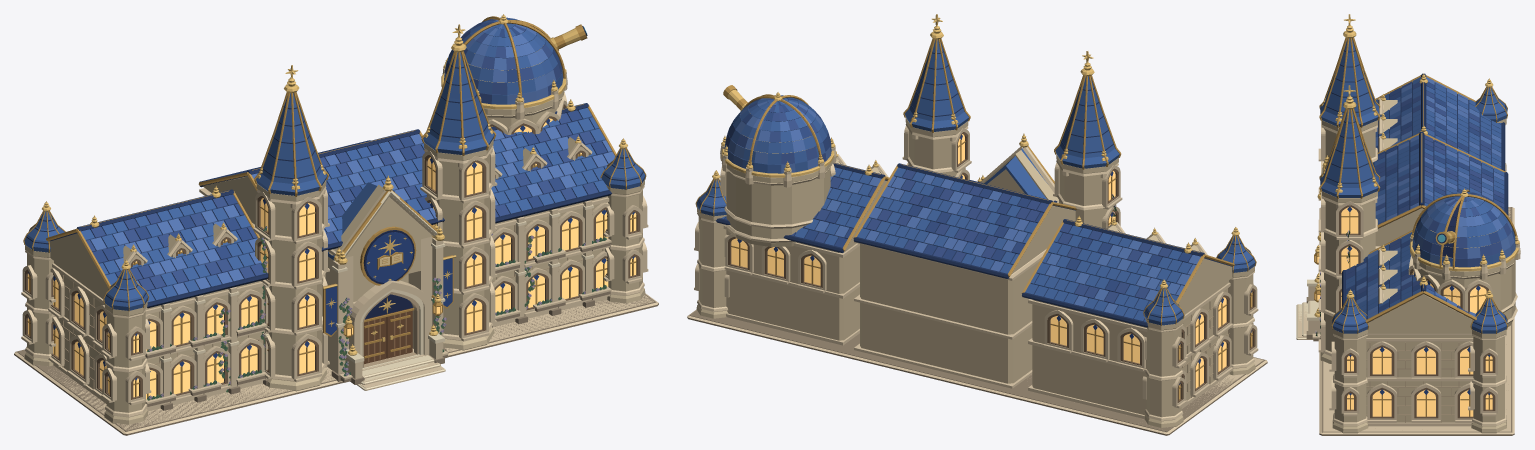
The model's file is academy-exterior.glb.
3 views of the same model, side by side, from view 1: azimuth 30°, elevation 25°; view 2: azimuth 150°, elevation 25°; view 3: azimuth 270°, elevation 25° (orthographic). The views are drawn at different scales.
Visible parts, largest first — view 1: West star spire, West classroom wing, West classroom wing | layered cobalt roof, East star spire, East classroom wing, East classroom wing | layered cobalt roof, Main hall and transverse portal roofs, Stone course base with projecting entry, Central hall and projecting Gothic pediment, Observatory layered cobalt dome and gold ribs, West front turret, East front turret (+6 smaller); view 2: Central hall and projecting Gothic pediment, Main hall and transverse portal roofs, West classroom wing, West classroom wing | layered cobalt roof, East classroom wing, West star spire, Observatory drum and Gothic lantern gallery, Observatory layered cobalt dome and gold ribs, Stone course base with projecting entry, East star spire, West rear turret, East classroom wing | layered cobalt roof (+2 smaller); view 3: East classroom wing, East star spire, Main hall and transverse portal roofs, East classroom wing | layered cobalt roof, West classroom wing | layered cobalt roof, Observatory layered cobalt dome and gold ribs, East front turret, East rear turret, West star spire, Observatory drum and Gothic lantern gallery, Stone course base with projecting entry, Fitted entrance limestone reveals and threshold (+2 smaller).
Part boxes in pixels (box(x1,y1,x2,y2)): West star spire: box(253, 65, 329, 391); West classroom wing: box(48, 261, 269, 411); West classroom wing | layered cobalt roof: box(46, 186, 268, 308); East star spire: box(420, 24, 497, 350); East classroom wing: box(491, 196, 610, 327); East classroom wing | layered cobalt roof: box(490, 99, 616, 223); Main hall and transverse portal roofs: box(198, 129, 444, 260); Stone course base with projecting entry: box(14, 293, 658, 435); Central hall and projecting Gothic pediment: box(199, 184, 446, 381); Observatory layered cobalt dome and gold ribs: box(441, 14, 565, 109); West front turret: box(101, 259, 151, 424); East front turret: box(600, 138, 648, 303); Central hall and projecting Gothic pediment: box(854, 146, 1058, 388); Main hall and transverse portal roofs: box(853, 133, 1076, 278); West classroom wing: box(1028, 280, 1233, 418); West classroom wing | layered cobalt roof: box(1021, 216, 1234, 327); East classroom wing: box(723, 225, 859, 345); West star spire: box(1053, 51, 1122, 228); Observatory drum and Gothic lantern gallery: box(720, 136, 836, 246); Observatory layered cobalt dome and gold ribs: box(722, 92, 834, 177); Stone course base with projecting entry: box(687, 309, 1267, 435); East star spire: box(902, 14, 971, 179); West rear turret: box(1142, 279, 1186, 427); East classroom wing | layered cobalt roof: box(716, 151, 888, 252); East classroom wing: box(1366, 333, 1474, 426); East star spire: box(1318, 85, 1380, 363); Main hall and transverse portal roofs: box(1322, 131, 1508, 246); East classroom wing | layered cobalt roof: box(1342, 230, 1476, 333); West classroom wing | layered cobalt roof: box(1375, 73, 1505, 170); Observatory layered cobalt dome and gold ribs: box(1410, 188, 1518, 271); East front turret: box(1329, 289, 1369, 435); East rear turret: box(1468, 289, 1507, 435); West star spire: box(1318, 14, 1380, 272); Observatory drum and Gothic lantern gallery: box(1408, 232, 1520, 326); Stone course base with projecting entry: box(1319, 207, 1514, 435); Fitted entrance limestone reveals and threshold: box(1296, 244, 1320, 339).
Bounding box in the file's own units: 23.73 × 13.23 × 9.82.
